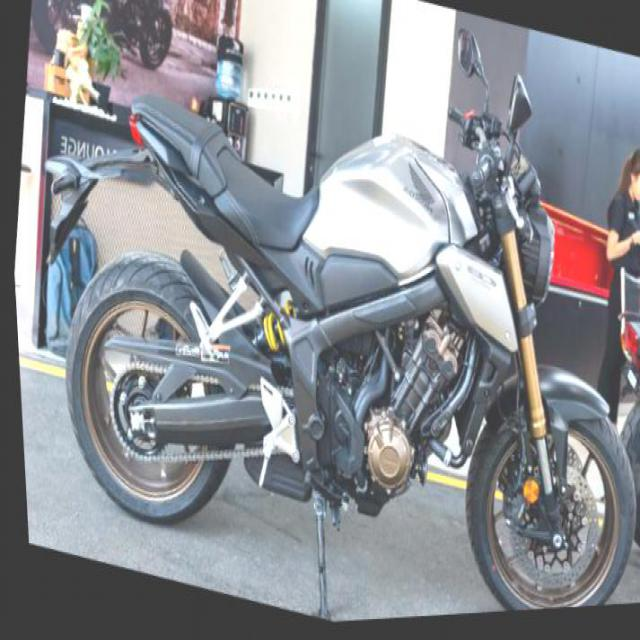CB650R: (26, 0, 639, 639)
